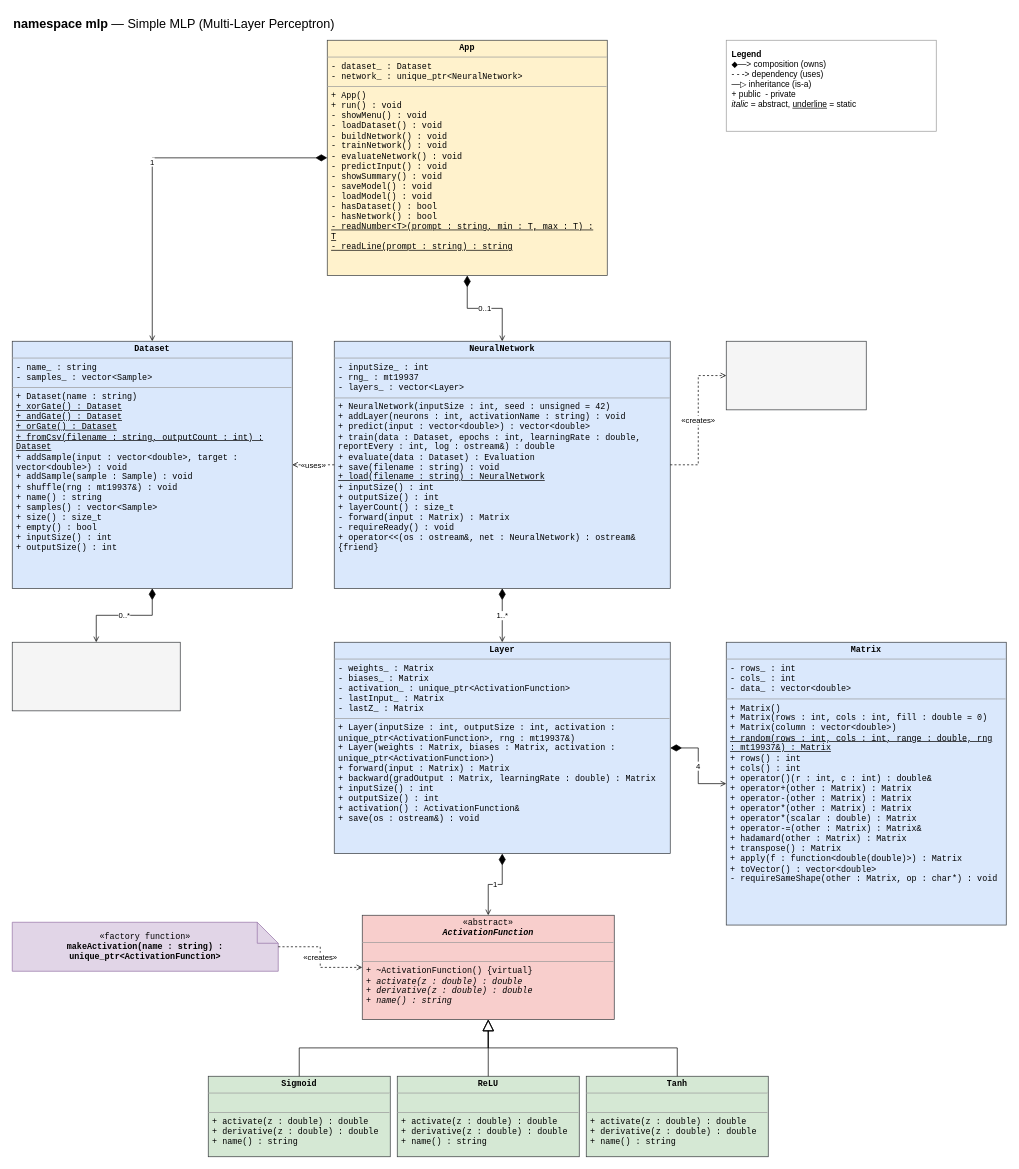
Image size: 1019x1169. Some labels were removed from this diagram. The centre of each missing label's shape, as x and y in pixels:
«struct» Evaluation + loss : double + accuracy : double: point 796,375
«struct» Sample + input : vector<double> + target : vector<double>: point 96,676
